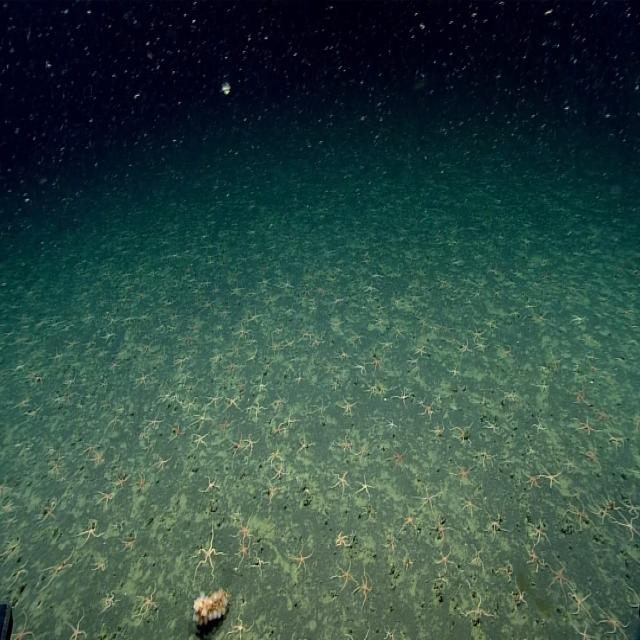brittle-stars: (194, 526, 222, 578), (45, 548, 74, 586), (599, 608, 630, 640), (547, 562, 570, 597), (135, 586, 158, 620), (566, 499, 589, 531), (568, 588, 592, 618), (616, 513, 640, 542), (416, 486, 439, 516), (79, 519, 104, 546), (353, 570, 372, 605), (64, 613, 88, 640), (465, 596, 490, 621), (335, 560, 356, 588), (292, 544, 313, 572), (523, 543, 543, 572), (10, 616, 34, 640), (527, 520, 549, 546), (230, 614, 252, 640), (399, 505, 418, 535), (429, 517, 452, 540), (485, 513, 506, 538), (235, 515, 255, 541), (450, 423, 472, 446), (240, 519, 260, 544), (593, 499, 612, 525), (434, 548, 456, 570), (387, 446, 408, 469), (540, 464, 560, 488), (39, 498, 58, 523), (574, 414, 595, 436), (452, 462, 473, 484), (474, 448, 496, 469), (332, 470, 351, 494), (460, 492, 478, 517), (512, 584, 529, 610), (522, 470, 542, 492), (594, 404, 613, 427), (356, 475, 374, 499), (362, 471, 380, 495), (583, 444, 601, 468), (263, 480, 282, 502), (338, 394, 357, 415), (628, 587, 640, 620), (622, 494, 640, 516), (574, 623, 597, 640), (144, 412, 163, 431), (193, 429, 211, 449), (98, 488, 116, 508), (237, 540, 252, 564), (194, 409, 212, 429), (311, 398, 328, 419), (252, 552, 268, 574), (336, 529, 354, 548), (228, 396, 246, 415), (92, 555, 109, 575), (396, 384, 412, 405), (273, 461, 289, 482), (103, 589, 118, 611), (296, 435, 311, 457), (367, 353, 384, 372), (485, 417, 502, 436), (339, 436, 354, 457), (272, 391, 287, 412), (503, 387, 520, 405), (204, 475, 220, 494), (354, 443, 370, 462), (421, 402, 436, 422), (136, 370, 151, 390), (112, 474, 129, 491), (156, 454, 172, 472), (170, 422, 186, 440), (226, 392, 242, 410), (428, 423, 444, 441), (244, 434, 258, 454), (232, 436, 246, 456), (248, 402, 264, 419), (321, 357, 337, 374), (217, 416, 232, 434), (207, 390, 222, 408), (532, 417, 547, 435), (92, 449, 106, 468), (268, 447, 282, 466), (469, 324, 485, 340), (414, 343, 430, 359), (362, 280, 378, 296), (240, 321, 256, 337), (328, 315, 343, 332), (535, 379, 550, 396), (230, 281, 245, 298), (337, 346, 352, 363), (234, 326, 249, 343), (226, 357, 241, 374), (380, 336, 395, 353), (248, 308, 262, 326), (448, 361, 462, 379), (135, 473, 148, 492), (475, 339, 491, 354), (65, 336, 80, 352), (457, 339, 471, 356), (254, 377, 268, 394), (270, 338, 283, 356), (310, 335, 324, 351), (184, 394, 196, 412), (564, 455, 576, 473), (354, 360, 367, 376), (300, 327, 314, 341), (351, 331, 364, 346), (275, 422, 286, 437), (108, 359, 120, 372), (386, 418, 397, 431)
